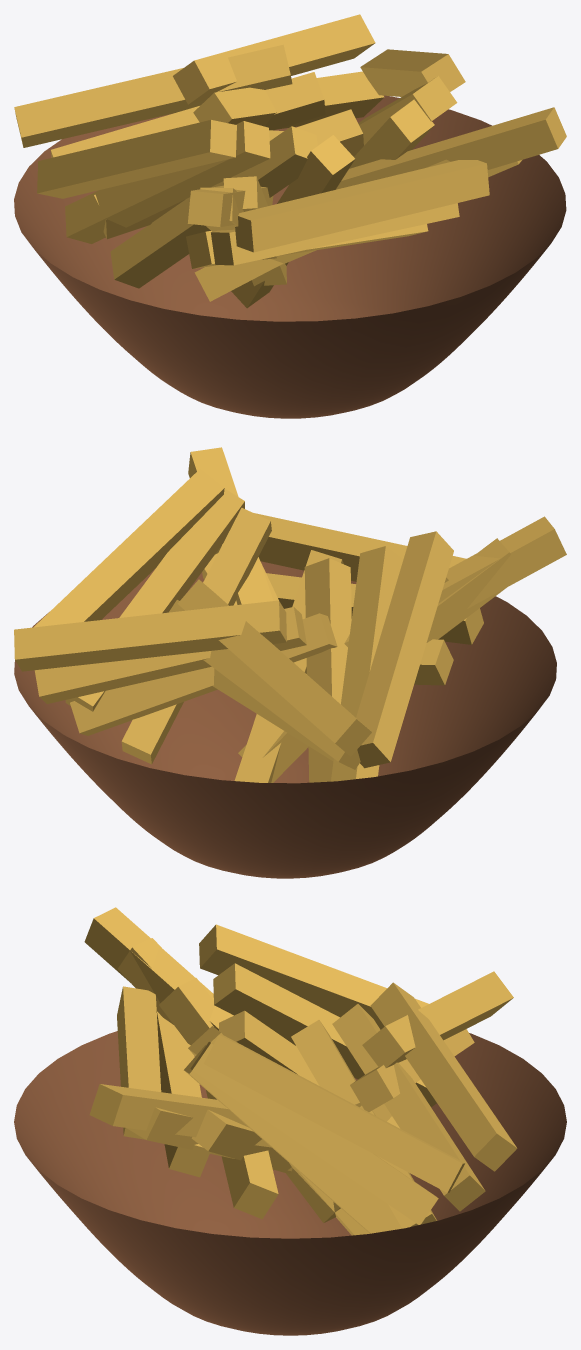
The model's file is fritas-1-card.glb.
3 renders of one model, top to bottom at view 1: azimuth 30°, elevation 25°; view 2: azimuth 150°, elevation 25°; view 3: azimuth 270°, elevation 25°, orthographic.
Bounding box in the file's own units: 0.15 × 0.0941 × 0.15.
